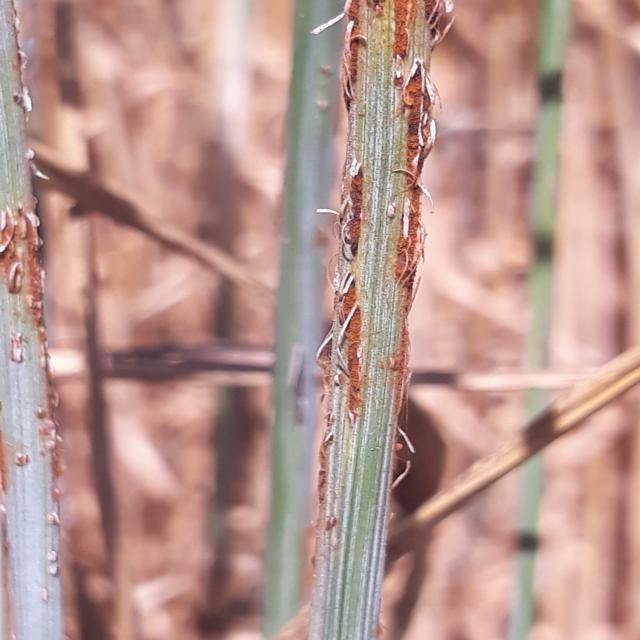black_stem_rust: (281, 0, 471, 640), (0, 0, 81, 640)
